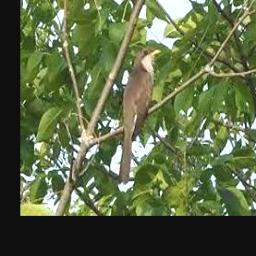Cuckoo: (118, 48, 162, 183)
